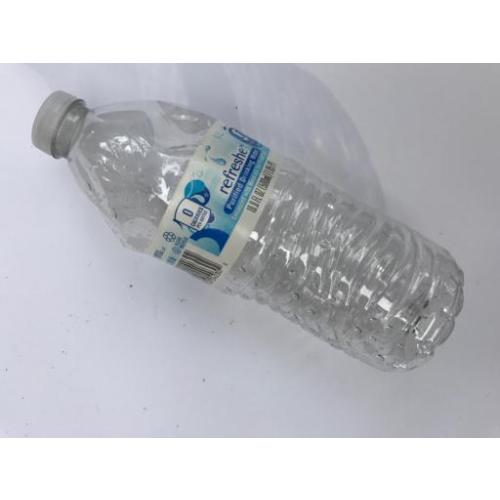plastic: (32, 90, 465, 372)
